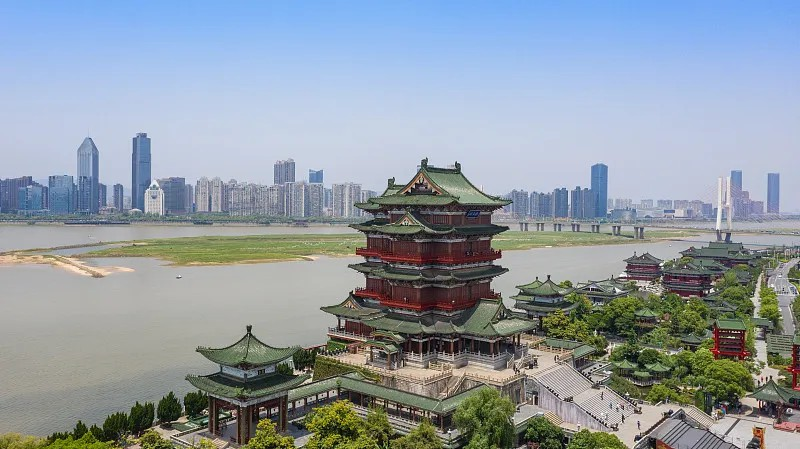Teng: (320, 158, 538, 361)
